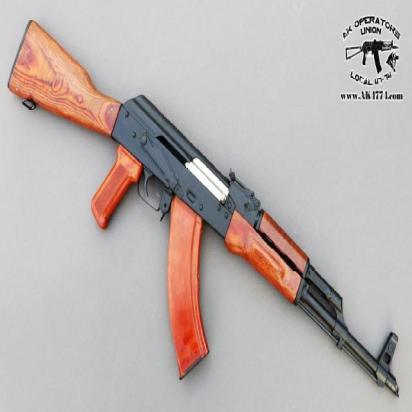Gun: (10, 9, 412, 403)
